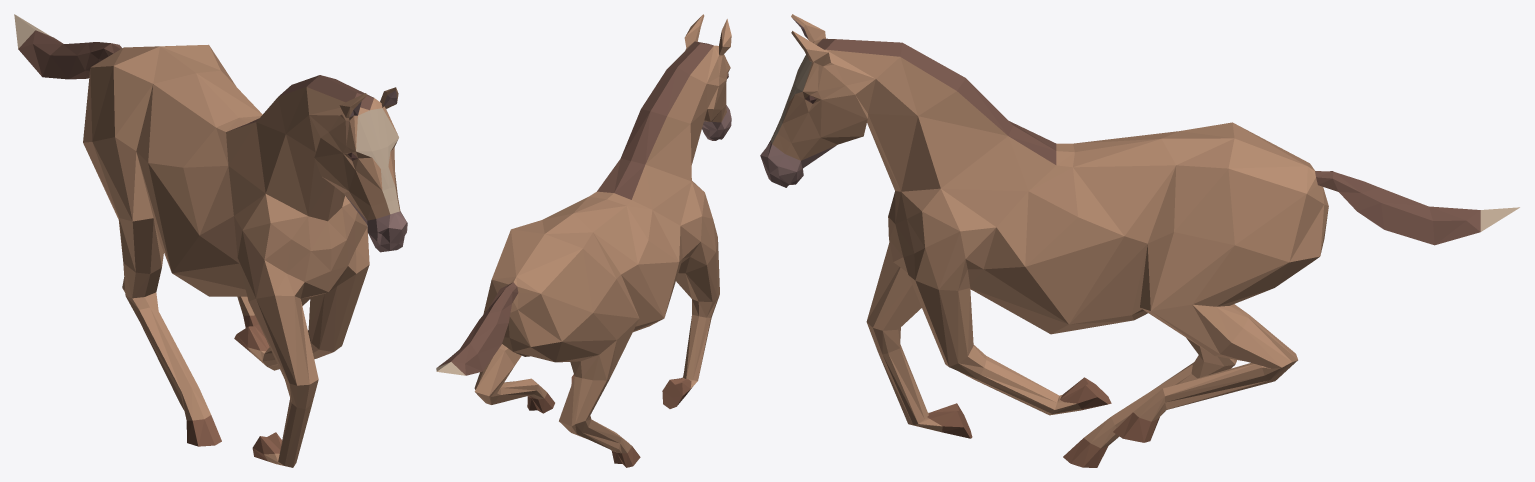
File: Horse.glb
The picture shows the model from 3 angles, left to right: view 1: azimuth 30°, elevation 25°; view 2: azimuth 150°, elevation 25°; view 3: azimuth 270°, elevation 25°; orthographic projection. The views are drawn at different scales.
Parts seen in each view (by area): view 1: mesh_0; view 2: mesh_0; view 3: mesh_0.
Part boxes in pixels (x1,y1,x2,y2): mesh_0: (14,14,407,467); mesh_0: (436,14,731,467); mesh_0: (760,14,1519,467).
Bounding box in the file's own units: 65.88 × 184 × 277.
